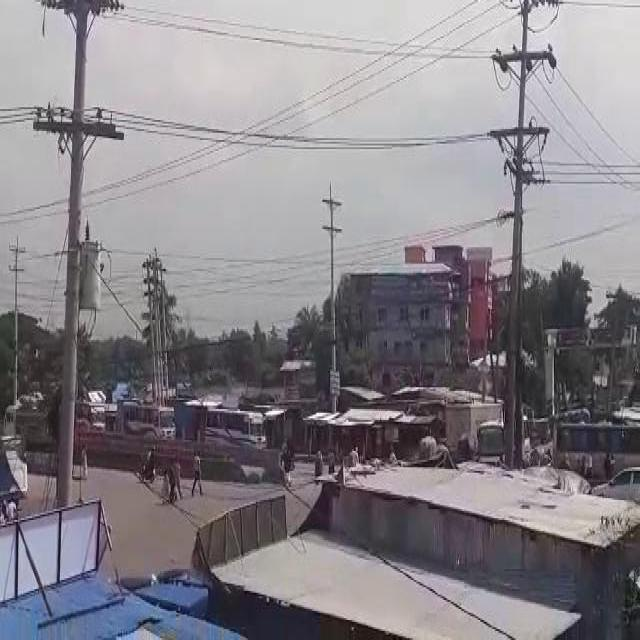bus: (550, 416, 638, 474), (201, 406, 263, 446), (122, 396, 174, 440), (0, 429, 31, 495), (73, 396, 104, 429)
car: (589, 458, 639, 496)
